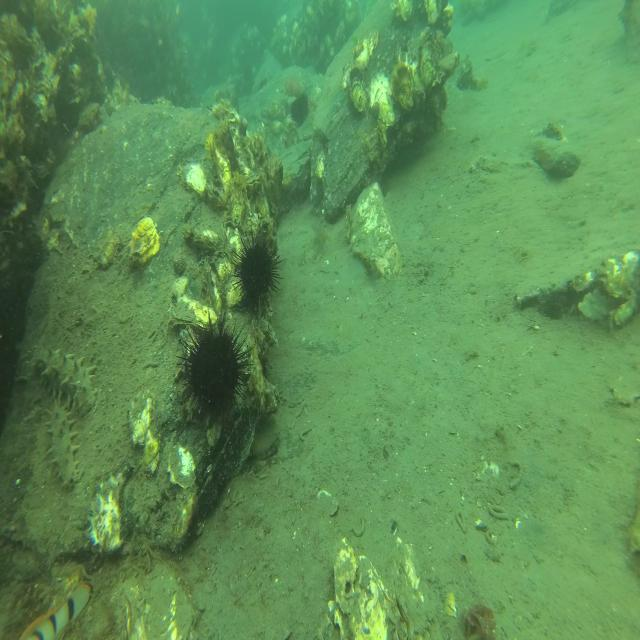echinus: (175, 315, 254, 432), (228, 227, 282, 321)
holothurian: (27, 344, 100, 411), (43, 396, 82, 495)
